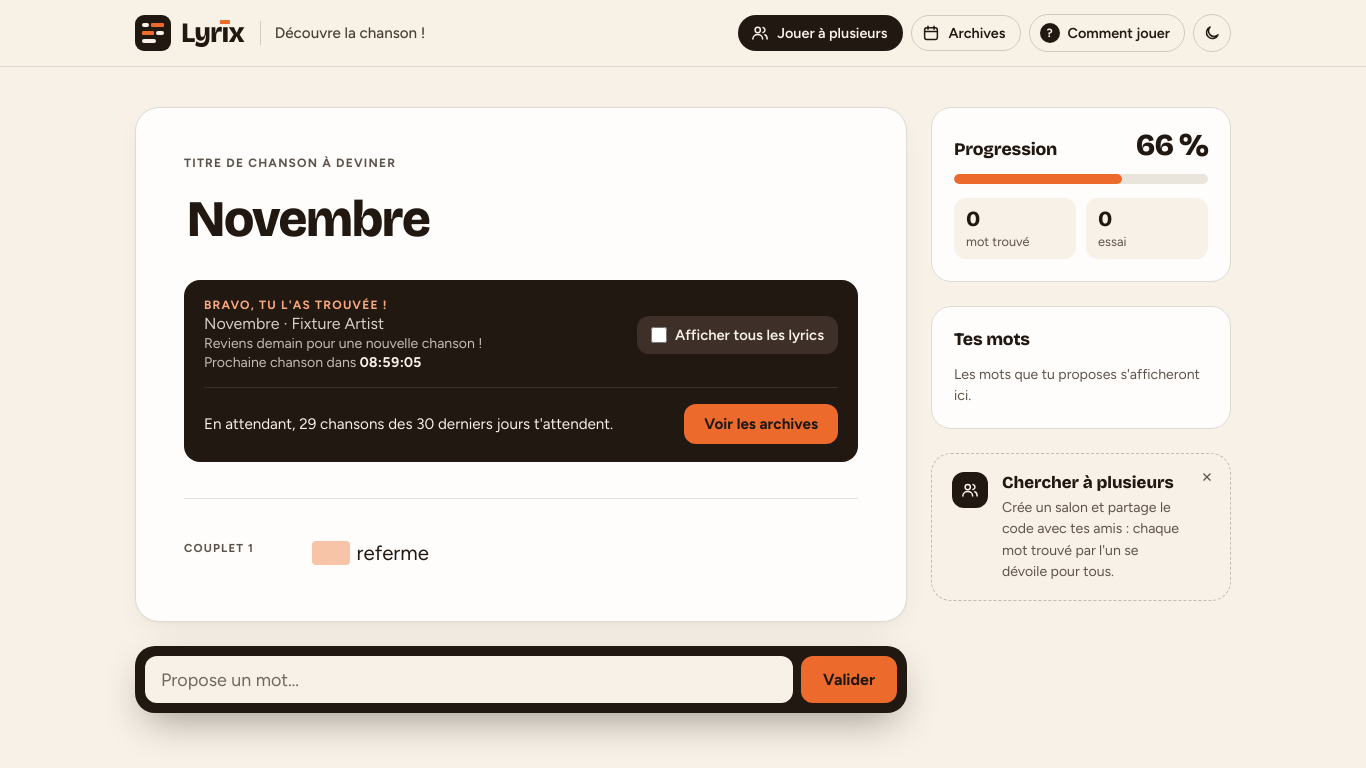
Test: reveal all lyrics (post-victory checkbox) › reveals every still-hidden word once checked, and hides it again once unchecked
The width and height of the screenshot is (1366, 768).
Expected: the field with placeholder "Propose un mot…" is shown, [145,656,793,703]
Expected: the text "vent" is not shown
Click the checkbox labelled "Afficher tous les lyrics" at point(659, 335), box [651,327,667,343]
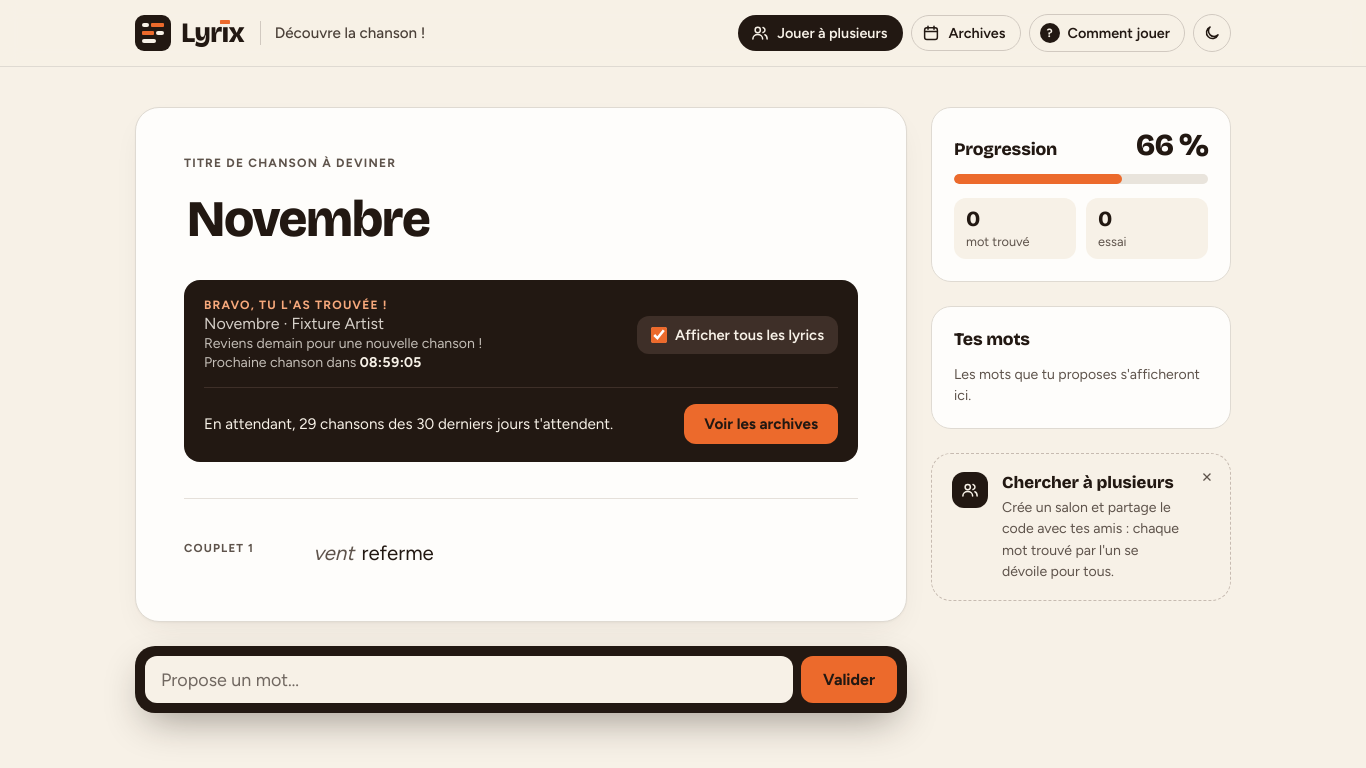
Expected: the checkbox labelled "Afficher tous les lyrics" is checked
Expected: the text "vent" is shown, [312,541,355,565]
Click the checkbox labelled "Afficher tous les lyrics" at point(659, 335), box [651,327,667,343]
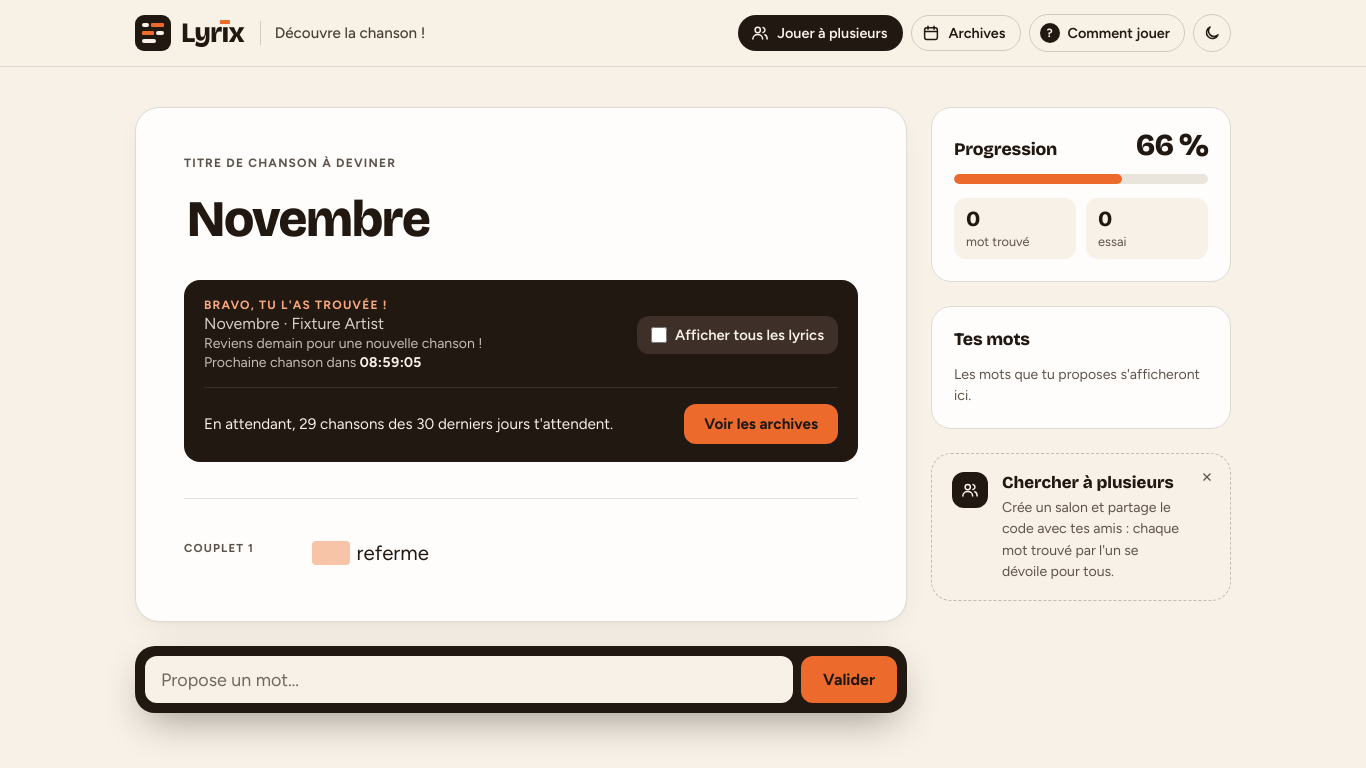
Expected: the checkbox labelled "Afficher tous les lyrics" is not checked, [651,327,667,343]
Expected: the text "vent" is gone
